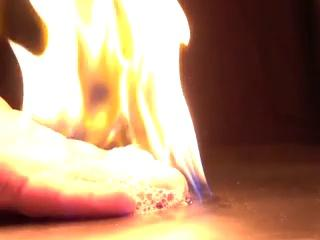Fire: (26, 1, 208, 199)
